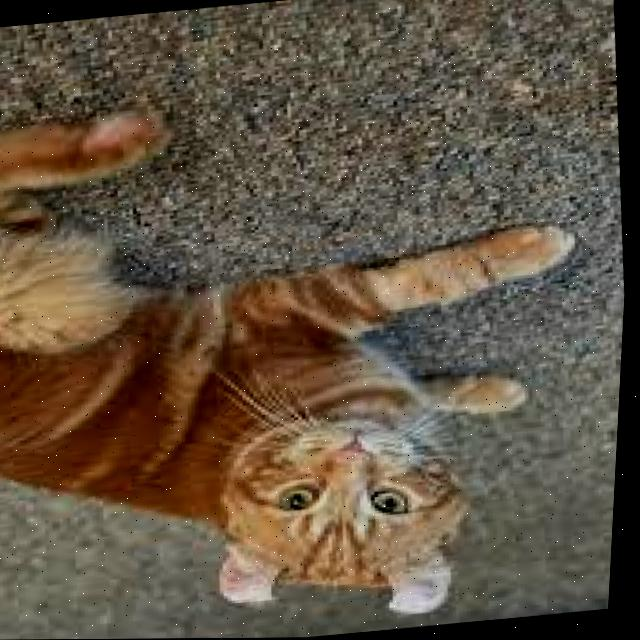American Curl: (0, 62, 623, 640)
